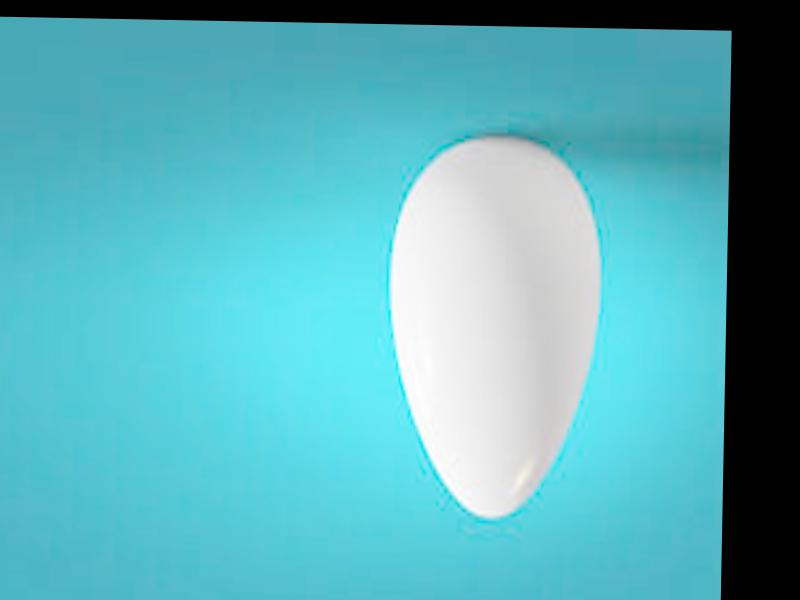Eggs: (385, 134, 604, 517)
